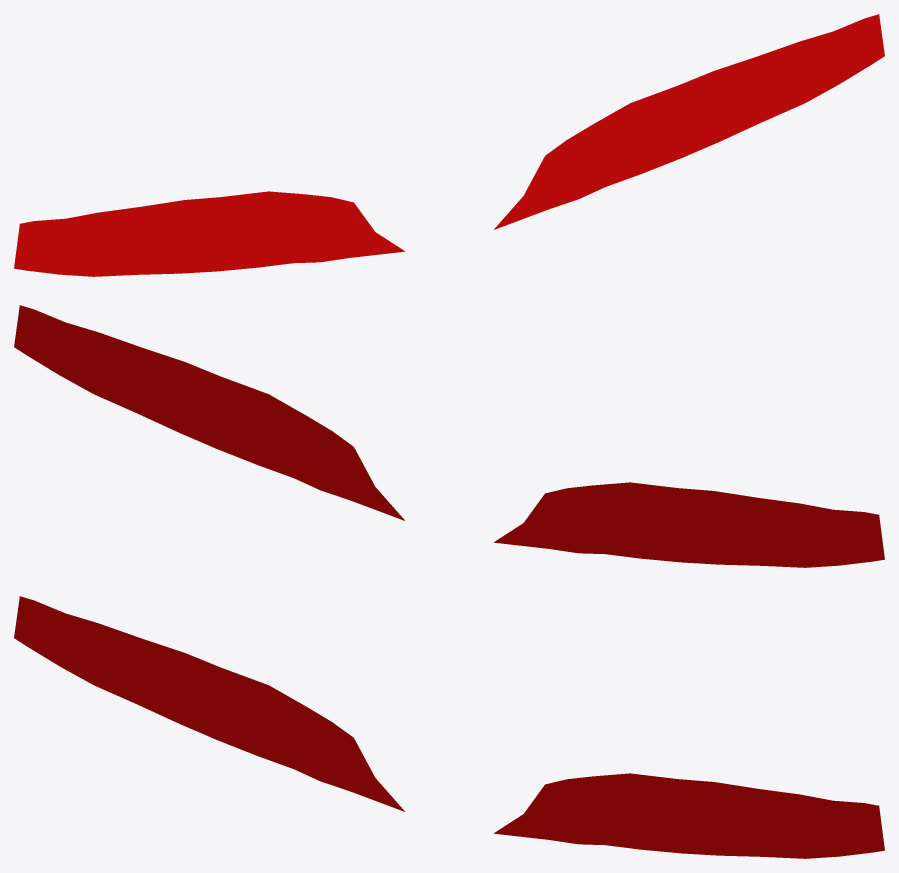
File: frame22.fbx
3 views of the same model, one above another, from view 1: azimuth 30°, elevation 25°; view 2: azimuth 150°, elevation 25°; view 3: azimuth 330°, elevation 25° (orthographic).
Parts seen in each view (by area): view 1: MaterialLayer; view 2: MaterialLayer; view 3: MaterialLayer.
Part boxes in pixels (x1,y1,x2,y2): MaterialLayer: (14, 14, 884, 276); MaterialLayer: (14, 305, 884, 567); MaterialLayer: (14, 596, 884, 858).
Size of the model in its own units: 1126 by 151 by 0.
